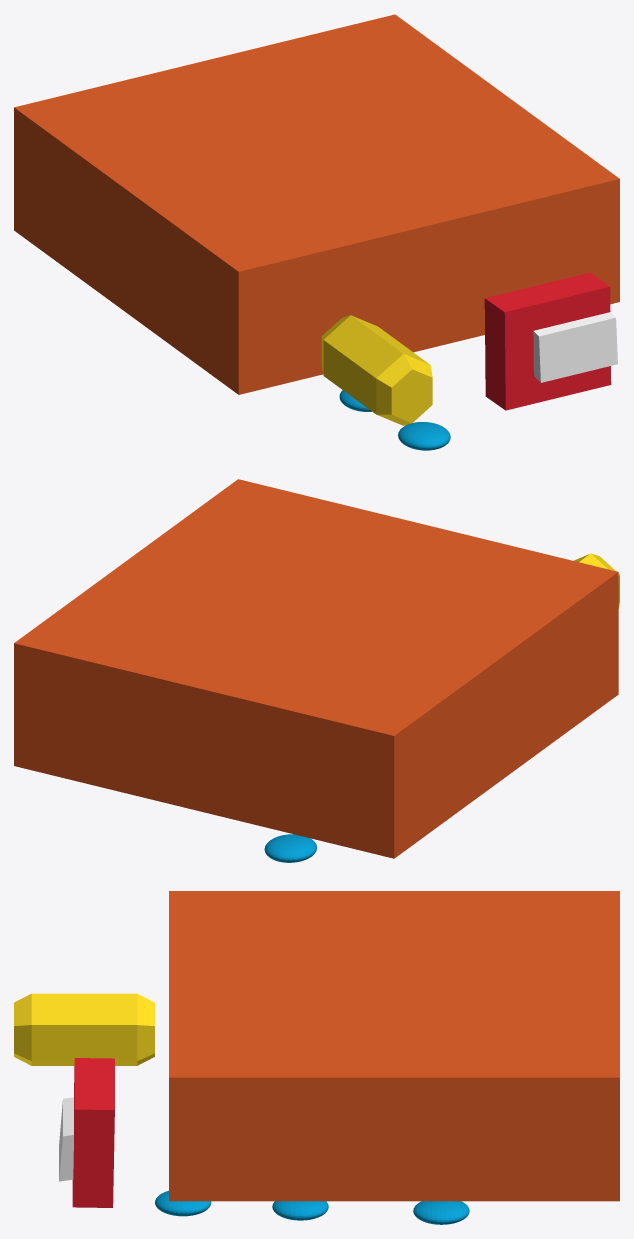
File: tinker.obj
The picture shows the model from 3 angles, top to bottom: view 1: azimuth 30°, elevation 25°; view 2: azimuth 150°, elevation 25°; view 3: azimuth 270°, elevation 25°; orthographic projection.
Parts seen in each view (by area): view 1: group_0_14900002, group_0_15277357, group_0_16768282, group_0_16448250, group_0_40919; view 2: group_0_14900002, group_0_40919; view 3: group_0_14900002, group_0_16768282, group_0_15277357, group_0_40919, group_0_16448250.
Boxes of the visible parts, left/top/right/bottom form: group_0_14900002: left=14, top=14, right=619, bottom=394; group_0_15277357: left=484, top=272, right=611, bottom=410; group_0_16768282: left=321, top=315, right=432, bottom=425; group_0_16448250: left=533, top=312, right=617, bottom=382; group_0_40919: left=339, top=390, right=450, bottom=450; group_0_14900002: left=14, top=479, right=618, bottom=858; group_0_40919: left=264, top=834, right=316, bottom=862; group_0_14900002: left=169, top=891, right=619, bottom=1201; group_0_16768282: left=14, top=993, right=154, bottom=1065; group_0_15277357: left=72, top=1058, right=114, bottom=1207; group_0_40919: left=155, top=1190, right=469, bottom=1224; group_0_16448250: left=59, top=1097, right=73, bottom=1181.
Bounding box in the file's own units: 94 × 55 × 129.
